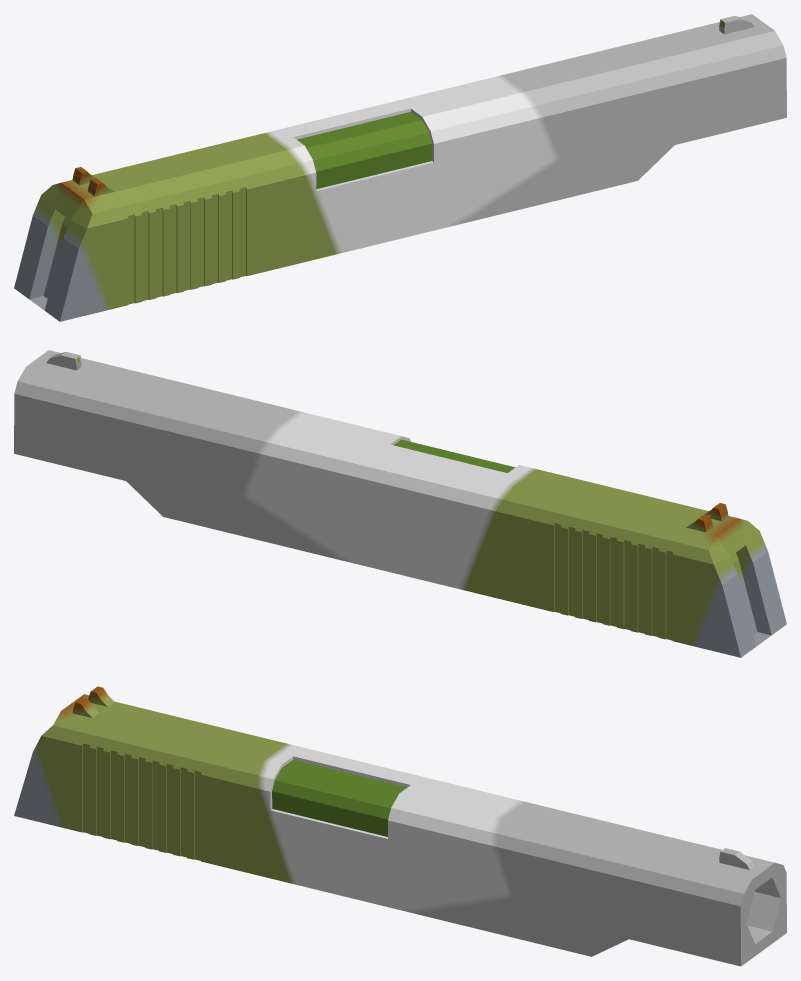
File: Pistol2_06_2.fbx
3 views of the same model, one above another, from view 1: azimuth 30°, elevation 25°; view 2: azimuth 150°, elevation 25°; view 3: azimuth 330°, elevation 25° (orthographic).
Visible parts, largest first — view 1: Pistol2_06_2; view 2: Pistol2_06_2; view 3: Pistol2_06_2.
Part boxes in pixels (box(x1,y1,x2,y2)): Pistol2_06_2: box(14, 14, 786, 321); Pistol2_06_2: box(14, 350, 786, 657); Pistol2_06_2: box(14, 686, 786, 966).
Bounding box in the file's own units: 0.225 × 0.0345 × 0.0246.
